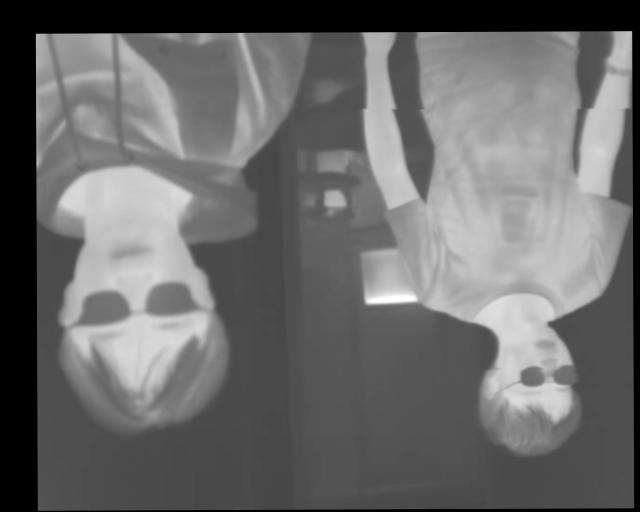face: (56, 216, 230, 434), (478, 324, 580, 456)
